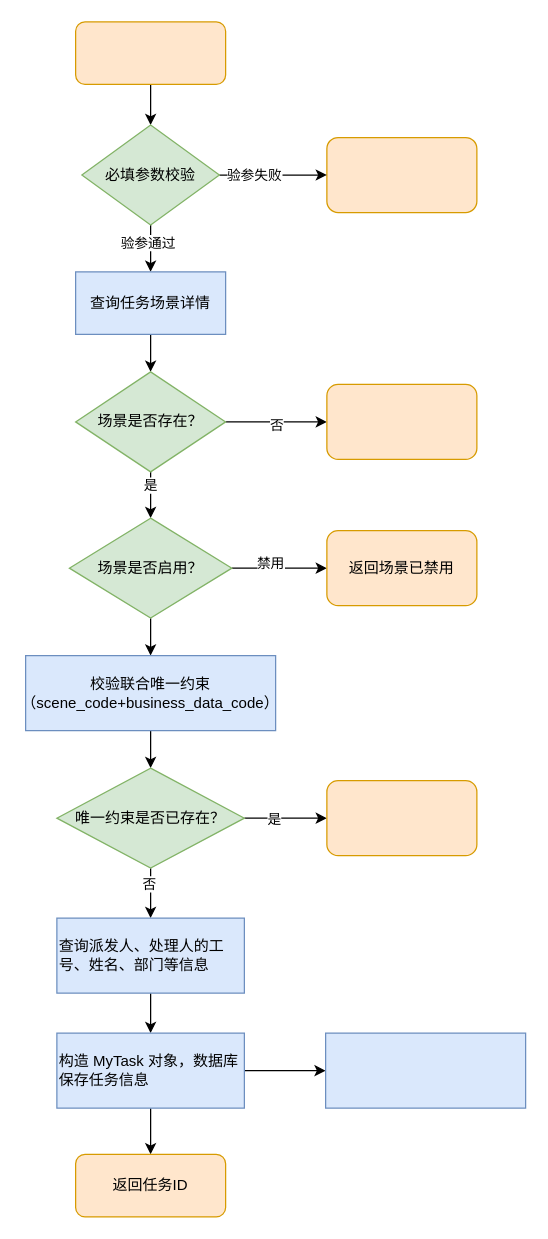
The diagram is 548 pixels wide and 1239 high, and some of its shapes have lost their labels. Here are the shapes that lost their labels. From the top down, the box of each, then its label:
(74, 21, 226, 84): 创建任务接口
(326, 136, 477, 212): 返回参数校验失败
(326, 383, 477, 459): 返回场景编码未注册
(326, 779, 477, 856): 返回任务已存在，禁止重复创建
(324, 1032, 526, 1108): 异步调用push-center，通知前端任务列表更新
